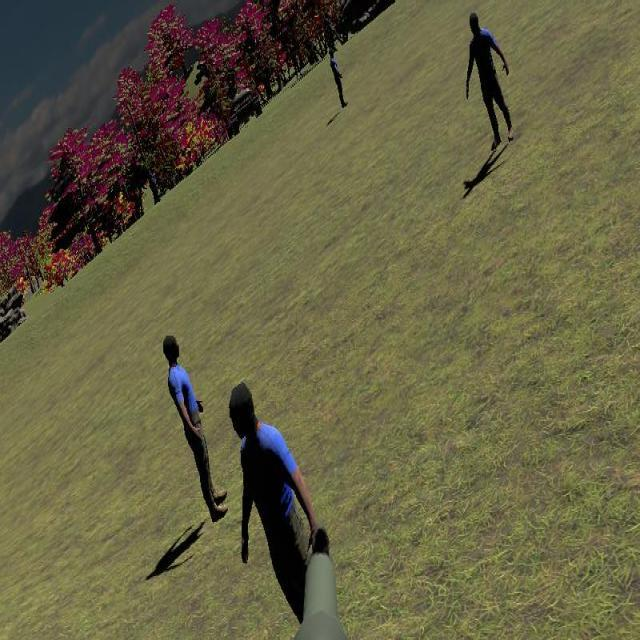Human: (228, 380, 331, 637), (226, 382, 329, 581), (160, 335, 230, 526)
Tank: (228, 86, 263, 134)
